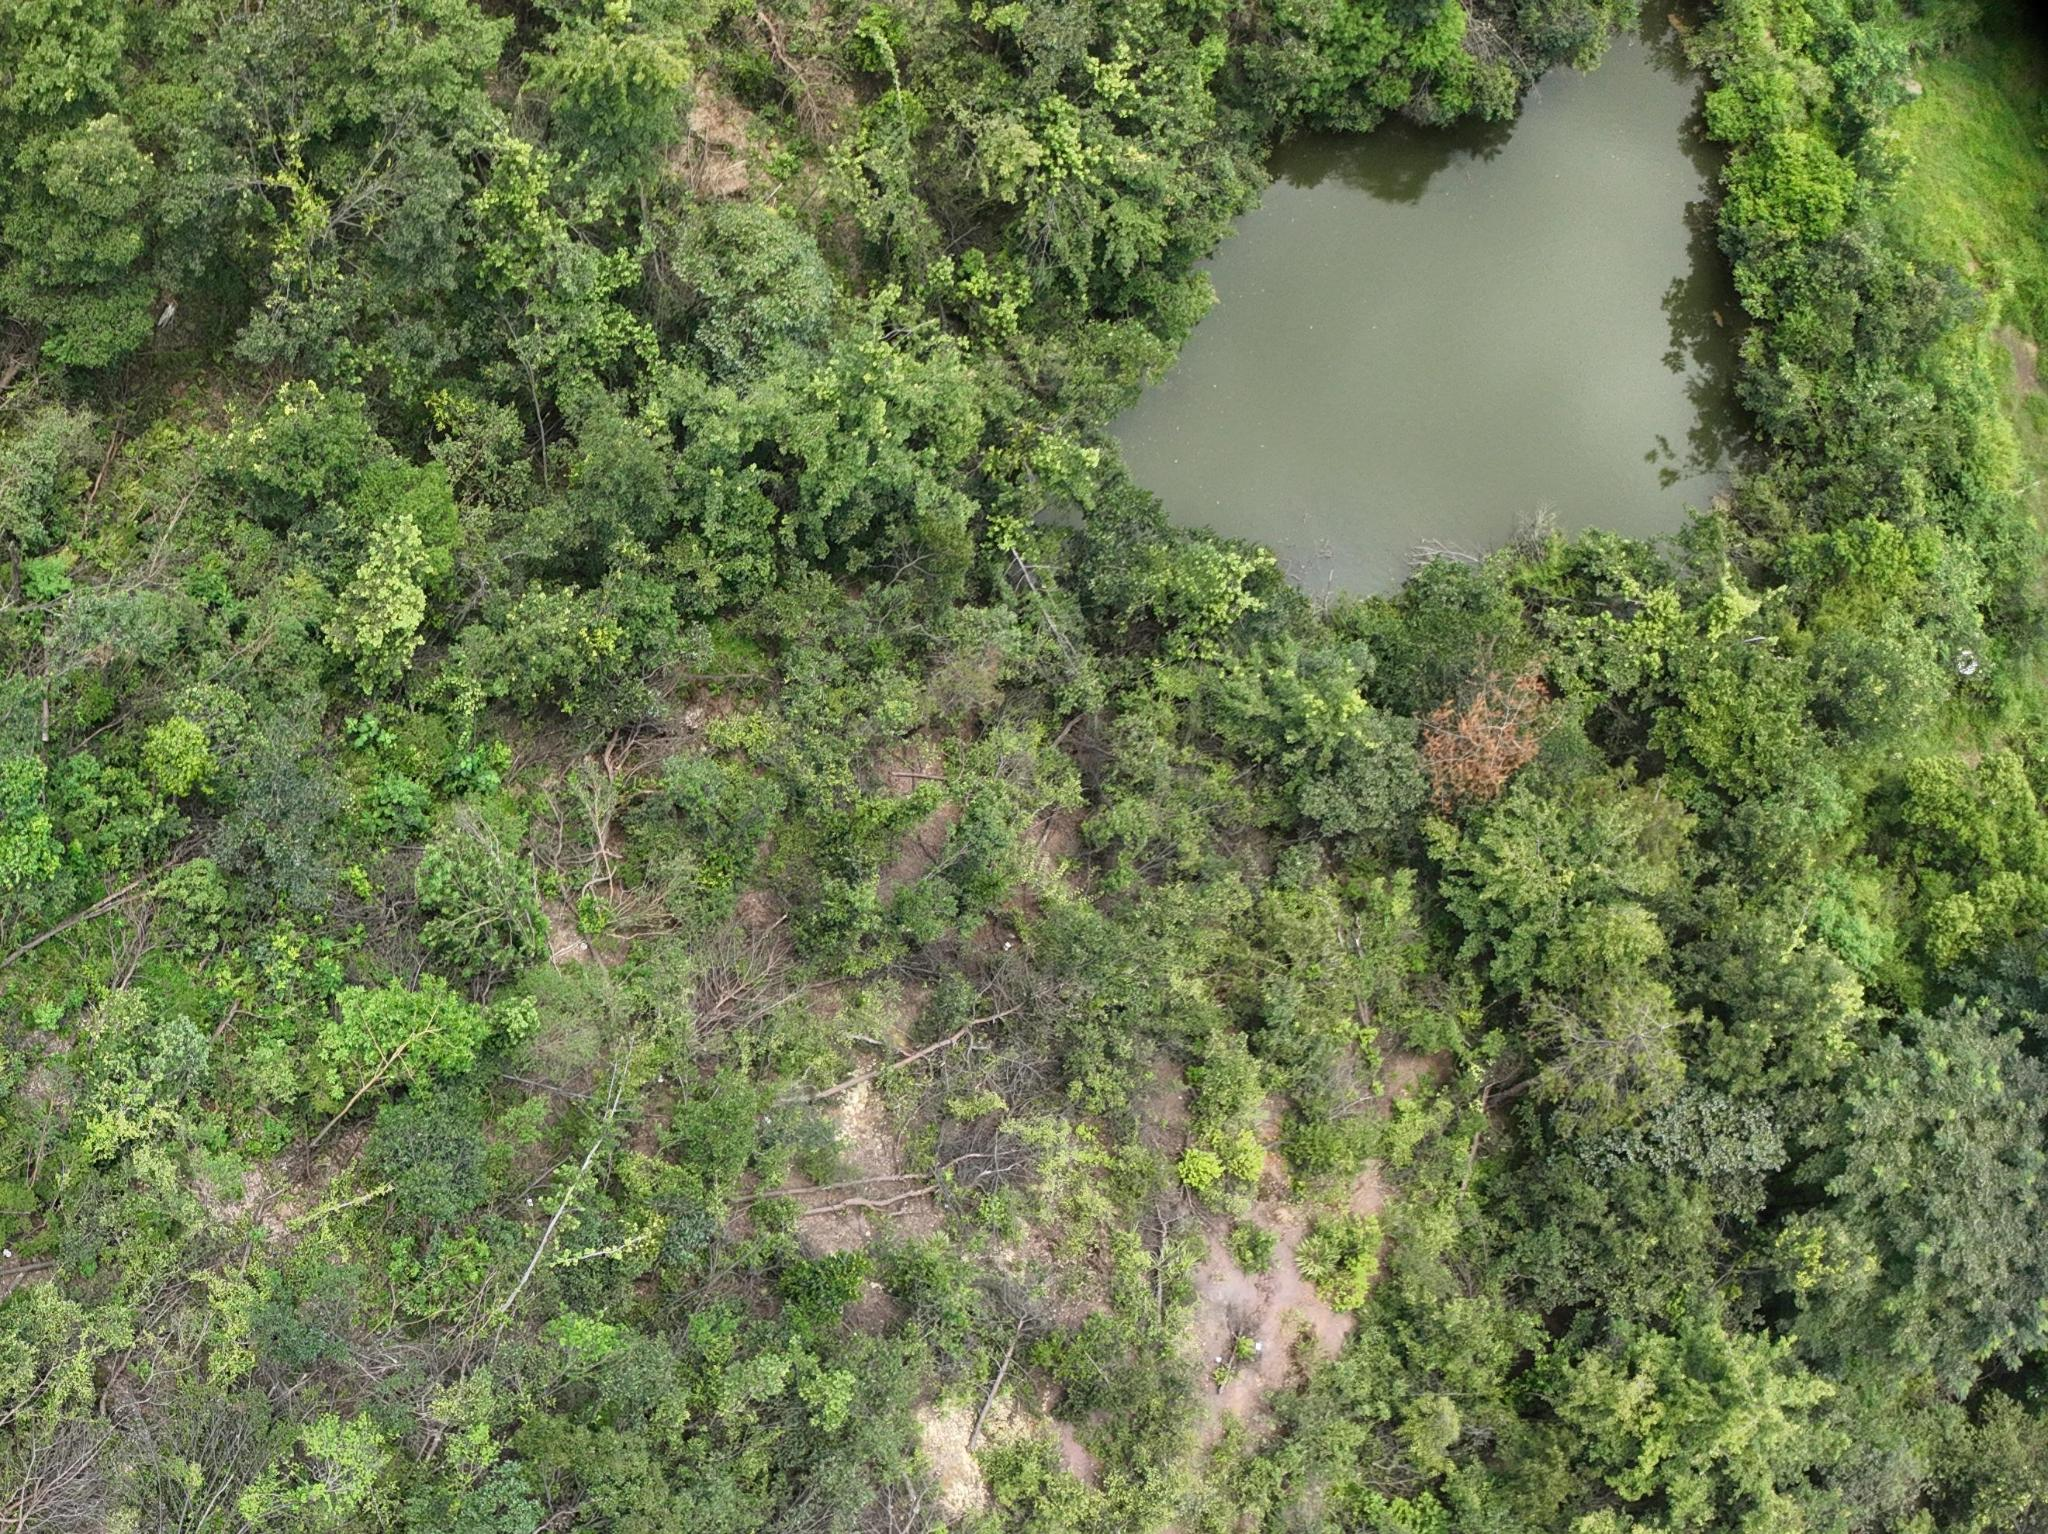heavy: (1402, 661, 1542, 815)
